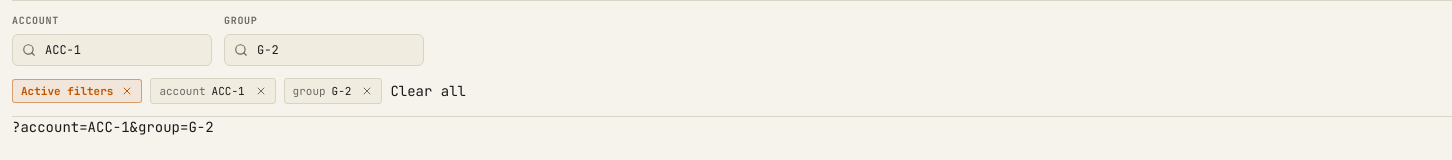
data controls › rehydrates filters from URL params and removes chips or all filters
Check: the text named "query" reads "?account=ACC-1&group=G-2", box [12, 118, 214, 136]
Check: the field showing "ACC-1" is shown, box [12, 34, 212, 66]
Click the 1st button named "Remove filter" at (261, 91), box [251, 81, 271, 101]
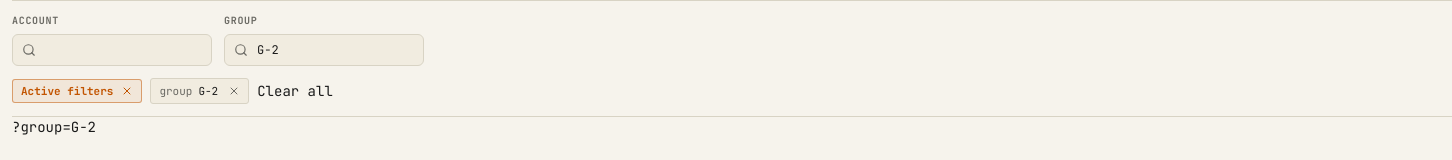
Check: the text named "query" reads "?group=G-2", box [12, 118, 96, 136]
Replace the text in the field labelled "Group" with "G-3" at (324, 50), box [224, 34, 424, 66]
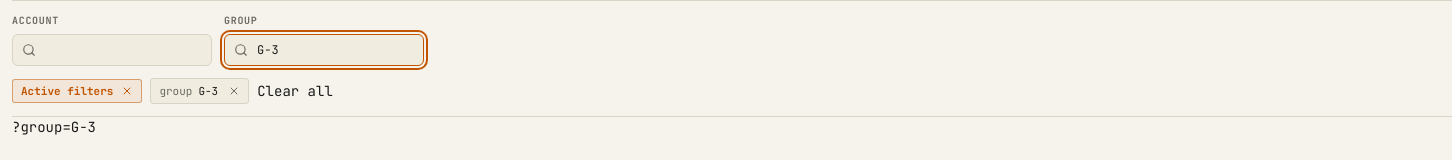
Check: the text named "query" reads "?group=G-3", box [12, 118, 96, 136]
Click the button named "Clear all filters" at (127, 91), box [117, 81, 137, 101]
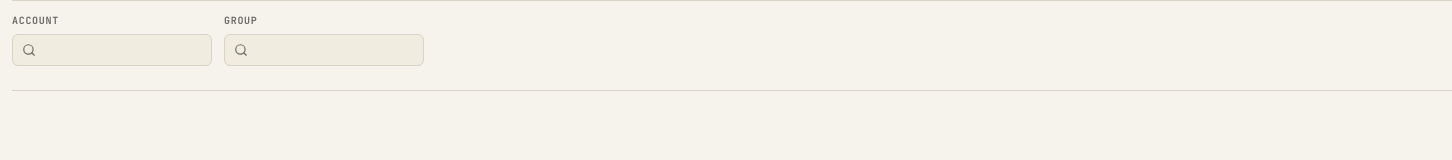
Check: the text "Active filters" is gone
